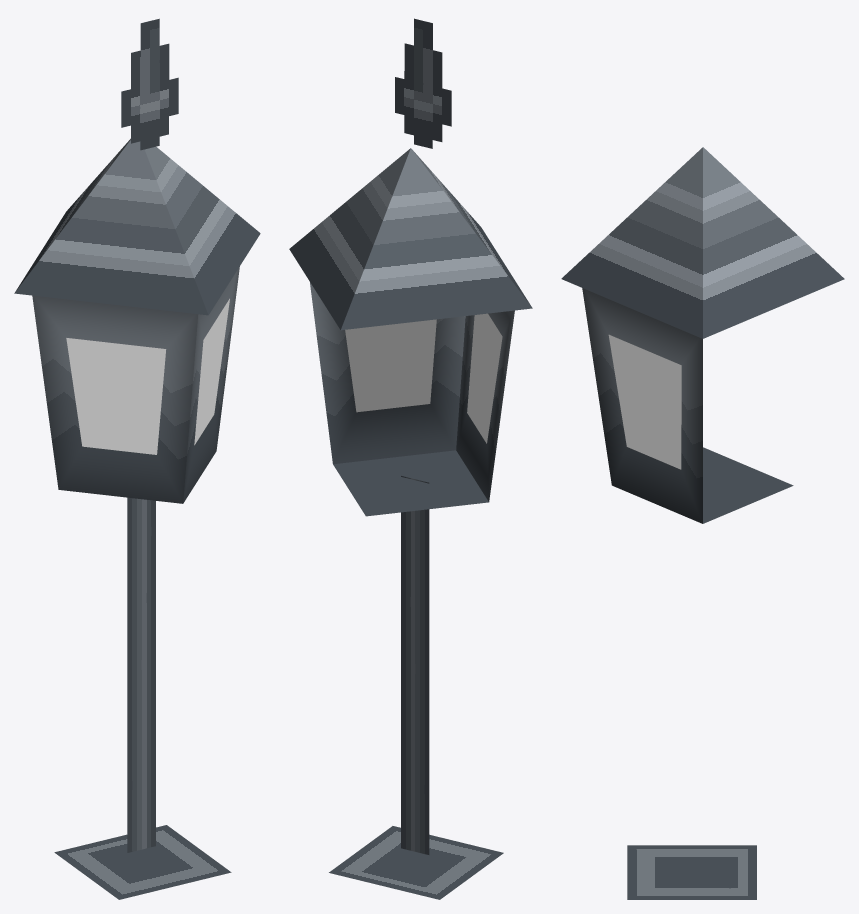
Rendered from Jubilife City Street Lamp.obj.
The picture shows the model from 3 angles, left to right: view 1: azimuth 30°, elevation 25°; view 2: azimuth 150°, elevation 25°; view 3: azimuth 270°, elevation 25°; orthographic projection.
Parts seen in each view (by area): view 1: polygon1, polygon0; view 2: polygon1, polygon0; view 3: polygon1, polygon0.
Part boxes in pixels (x1,y1,x2,y2): polygon1: (14, 18, 260, 899); polygon0: (66, 298, 229, 454); polygon1: (289, 18, 532, 899); polygon0: (345, 313, 502, 443); polygon1: (561, 147, 844, 899); polygon0: (608, 334, 681, 469).
Bounding box in the file's own units: 17.18 × 56.4 × 17.18.
Materials: 2 (2 with a texture image).
